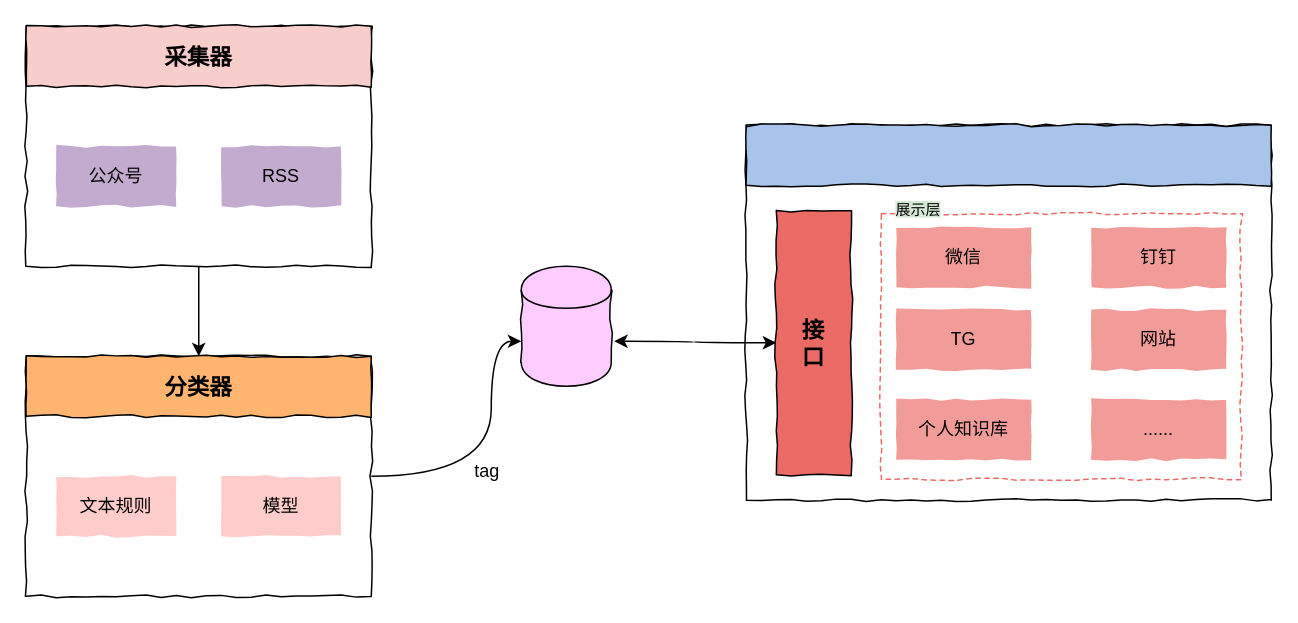
This 1298x623 diagram has some shape labels left out. Each missing label, with the centre of its shape:
"DB" goes at [565,325].
"分发器" goes at [1008,154].
